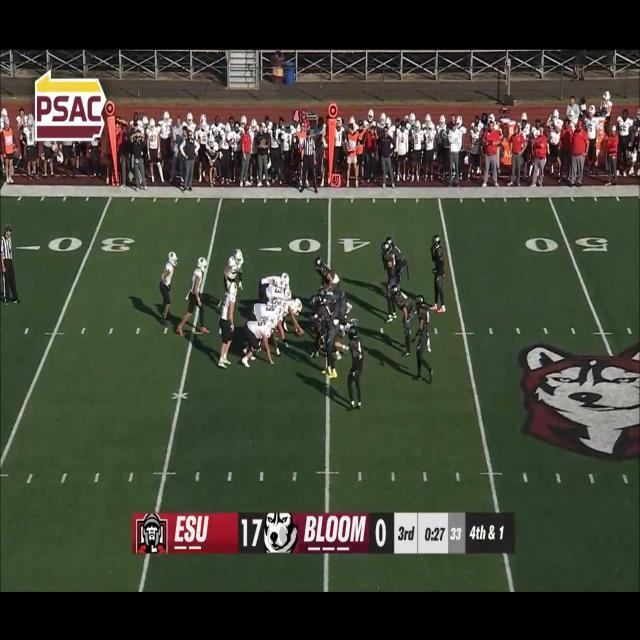football: (294, 327, 304, 337)
